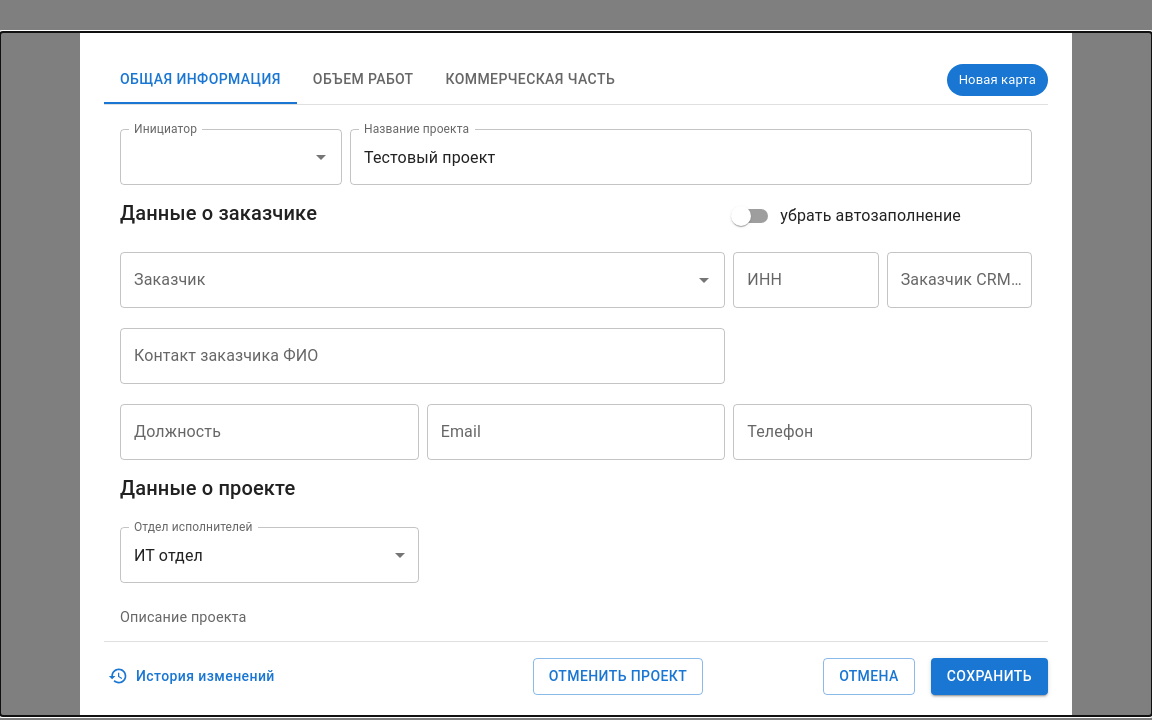
ModalForm › does not turn on job calculation when filled system requirements are not approved
expect the field showing "Тестовый проект" is shown: met, box [350, 129, 1032, 185]
What coordinates should you click on to do the following:
click the tab "Объем работ"
I would click on:
 (363, 80)
Its box is [297, 56, 430, 104].
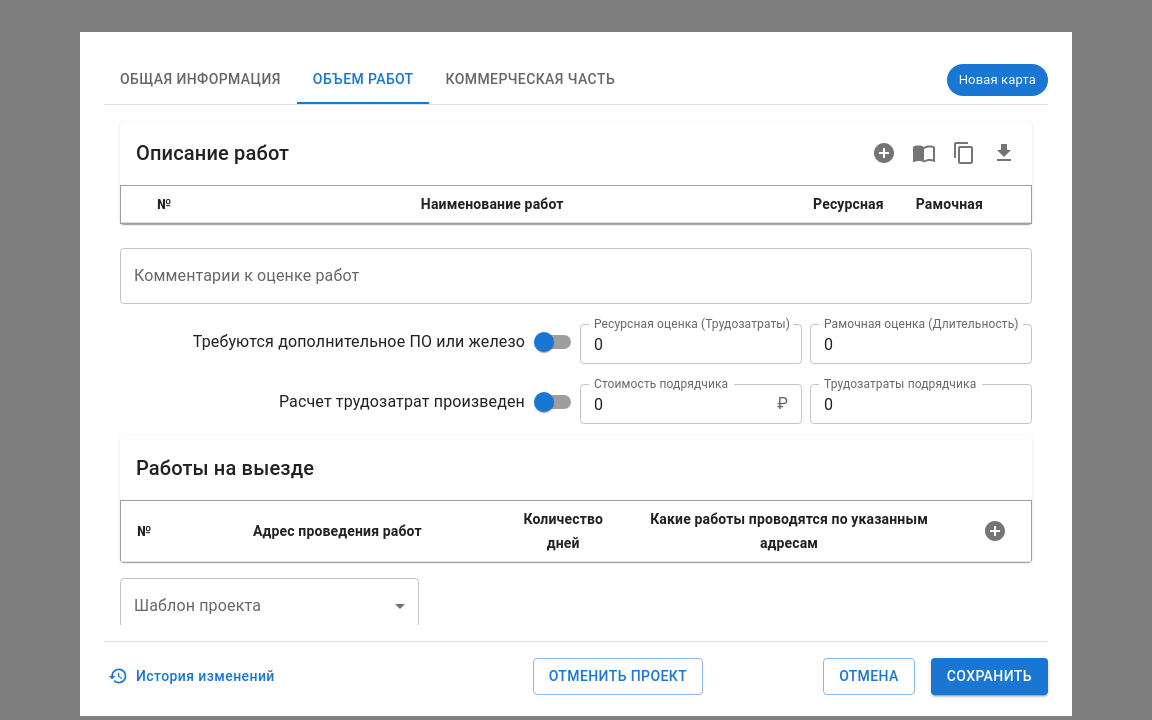
What coordinates should you click on to do the following:
click the checkbox labelled "Расчет трудозатрат произведен"
I would click on:
 (425, 402)
Its box is [279, 392, 571, 412].
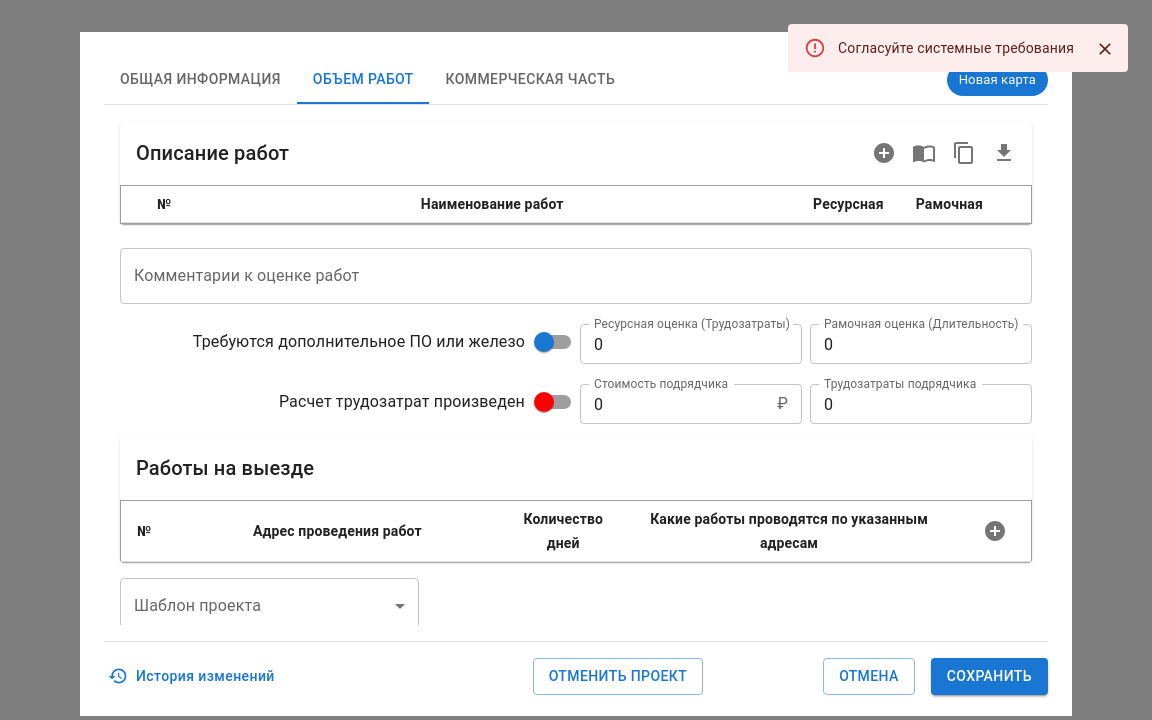
expect the checkbox labelled "Расчет трудозатрат произведен" is not checked: met, box [279, 392, 571, 412]
expect the text "Согласуйте системные требования" is shown: met, box [838, 40, 1074, 56]
